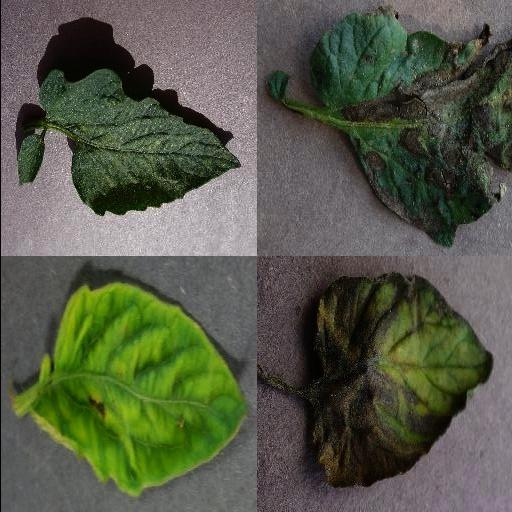Early Blight: (304, 11, 512, 246)
Late Blight: (309, 273, 493, 489)
Spider Mites: (38, 69, 240, 217)
Yellow Leaf Curl Virus: (30, 279, 246, 497)
